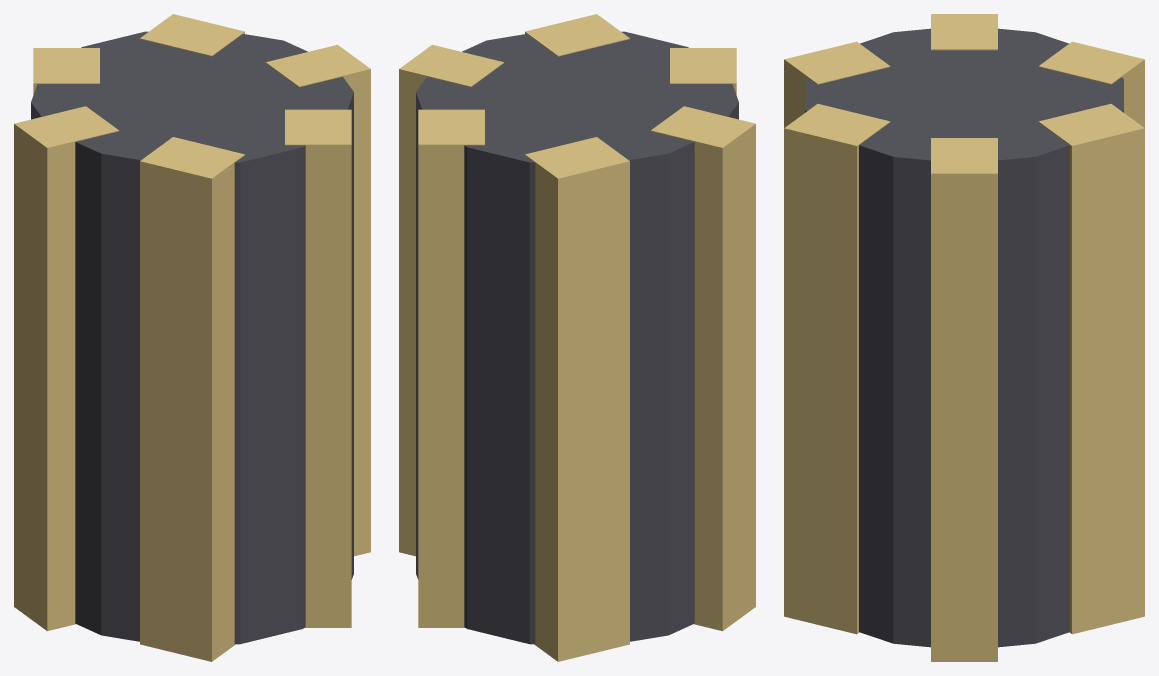
Rendered from casino-floor-and-back-rooms-chip-stack-black-e3d5260d__27029.glb.
The picture shows the model from 3 angles, left to right: view 1: azimuth 30°, elevation 25°; view 2: azimuth 150°, elevation 25°; view 3: azimuth 270°, elevation 25°; orthographic projection.
Parts seen in each view (by area): view 1: chip-stack-black; view 2: chip-stack-black; view 3: chip-stack-black.
Part boxes in pixels (x1,y1,x2,y2): chip-stack-black: [14, 14, 370, 661]; chip-stack-black: [399, 14, 755, 661]; chip-stack-black: [784, 14, 1144, 661].
Bounding box in the file's own units: 0.045 × 0.0642 × 0.043.
